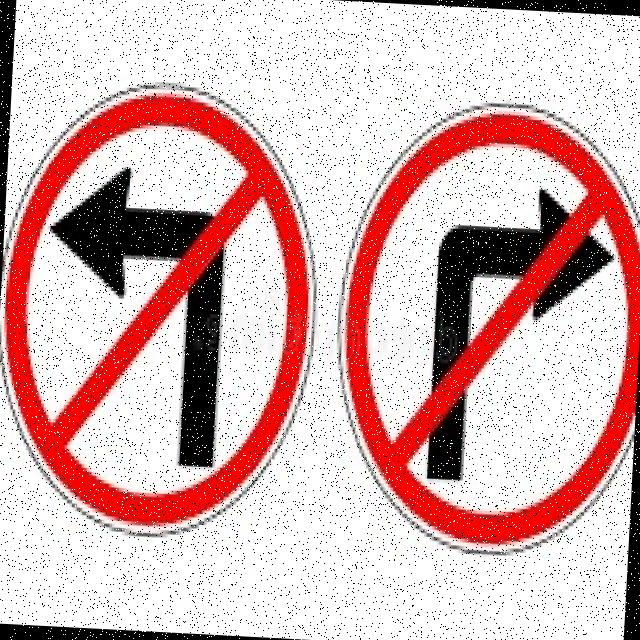do_not_turn_right: (0, 55, 331, 544)
